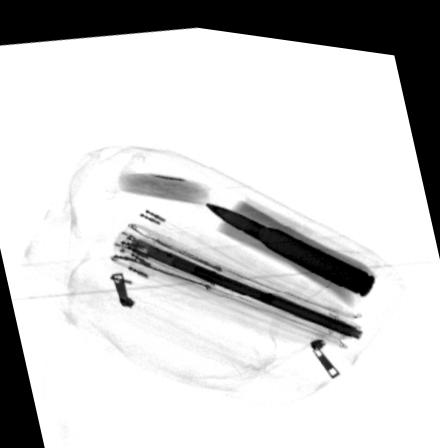Bullet: (201, 195, 376, 287)
